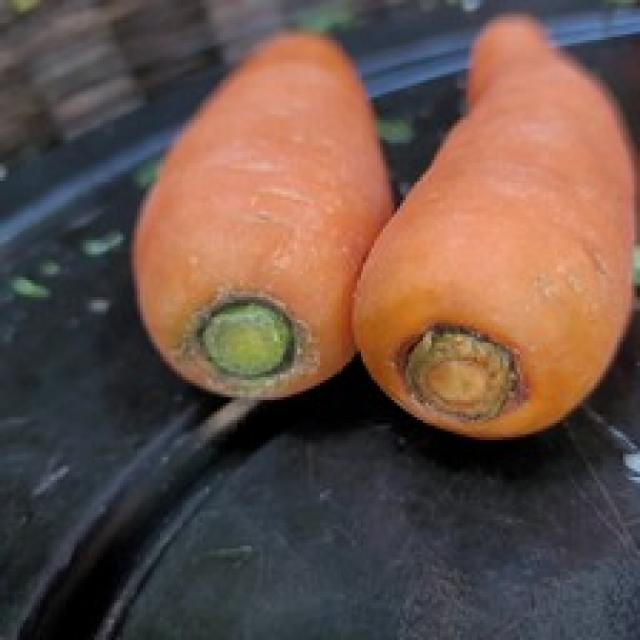carrot: (348, 14, 640, 434), (126, 29, 392, 396)
